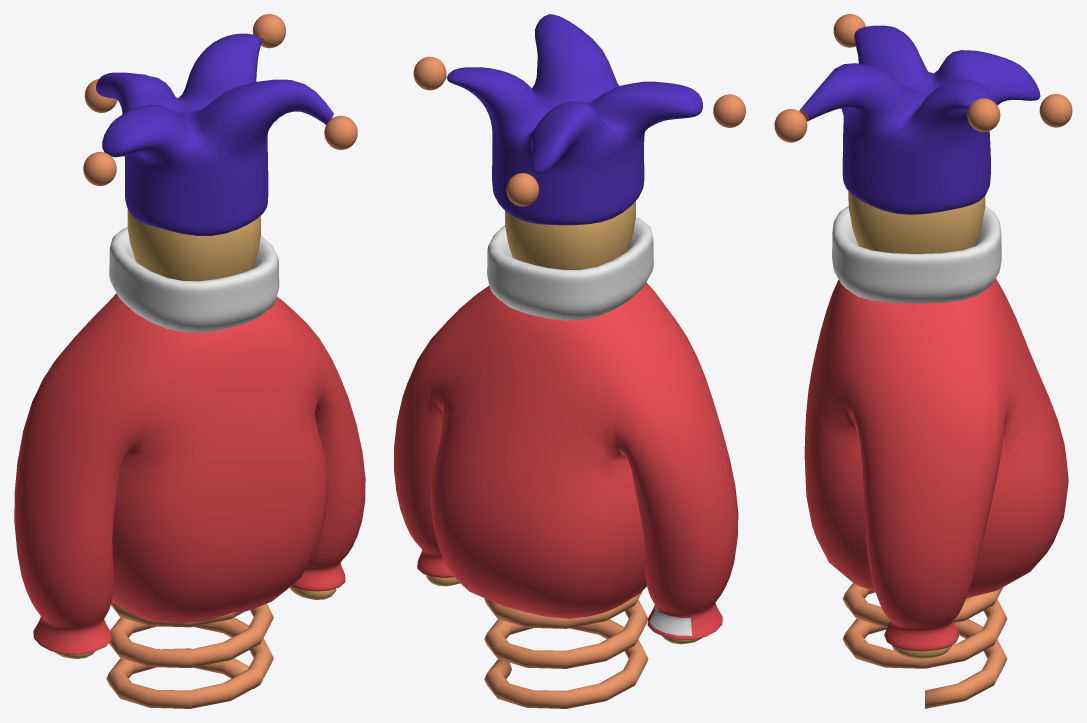
Rendered from playerCharacter.fbx.
3 renders of one model, left to right at view 1: azimuth 30°, elevation 25°; view 2: azimuth 150°, elevation 25°; view 3: azimuth 270°, elevation 25°, orthographic.
Parts seen in each view (by area): view 1: body, cap, feder, krause, kopf, glocken; view 2: body, cap, feder, krause, kopf, glocken; view 3: body, cap, krause, feder, kopf, glocken.
Part boxes in pixels (x1,y1,x2,y2): body: (14,293,365,654); cap: (96,33,333,235); feder: (106,602,273,708); krause: (109,227,279,332); kopf: (127,209,260,281); glocken: (83,14,357,185); body: (394,282,738,639); cap: (447,14,702,225); feder: (484,591,648,708); krause: (487,217,653,320); kopf: (505,201,635,269); glocken: (413,56,745,206); body: (804,278,1068,651); cap: (800,25,1040,214); krause: (832,206,1001,303); feder: (842,583,1007,708); kopf: (848,191,985,253); glocken: (774,14,1072,142).
Size of the model in its own units: 166 by 308 by 132.
